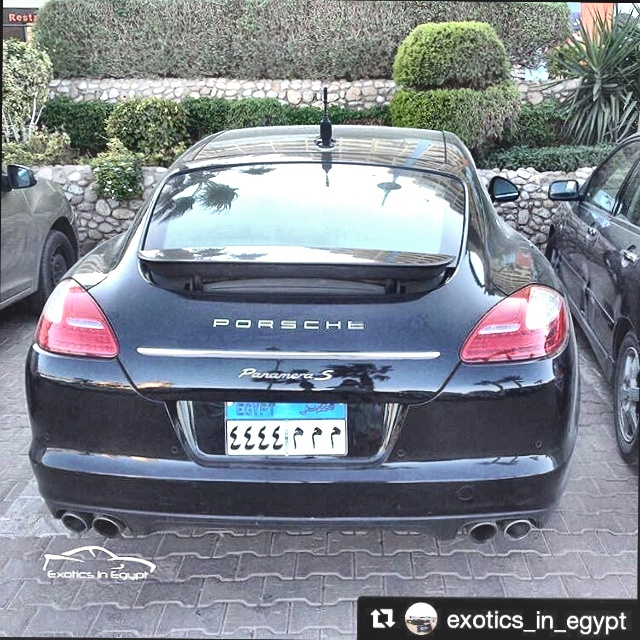License Plate: (219, 393, 353, 461)
